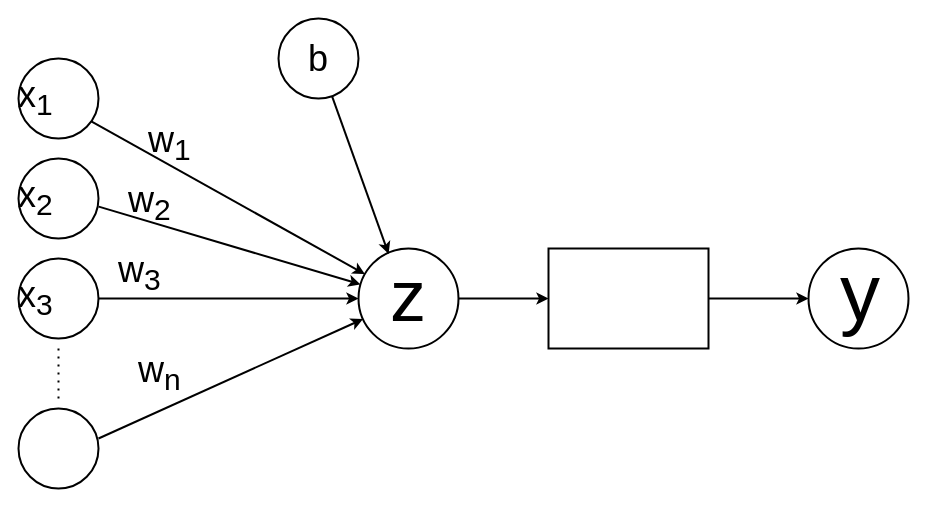
This 926x506 diagram has some shape labels left out. Here are the shapes that lost their labels. From the top down, the centre of each, then its label:
At pixel 628 298: "f(z)".
At pixel 58 448: "x n".
